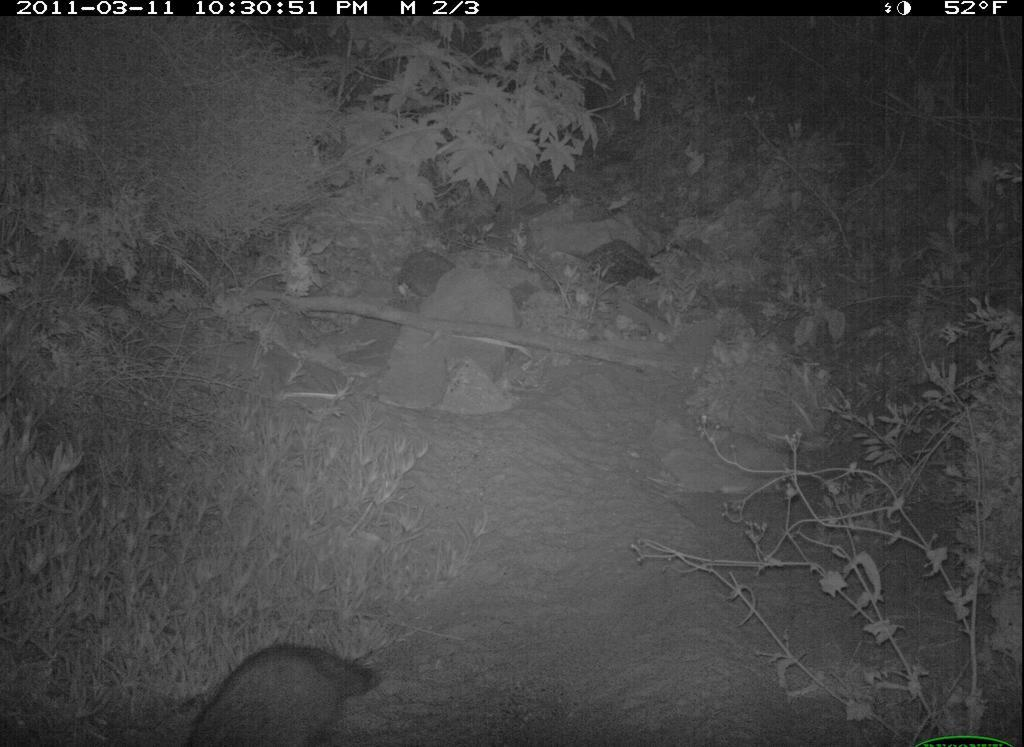raccoon: (182, 633, 383, 747)
